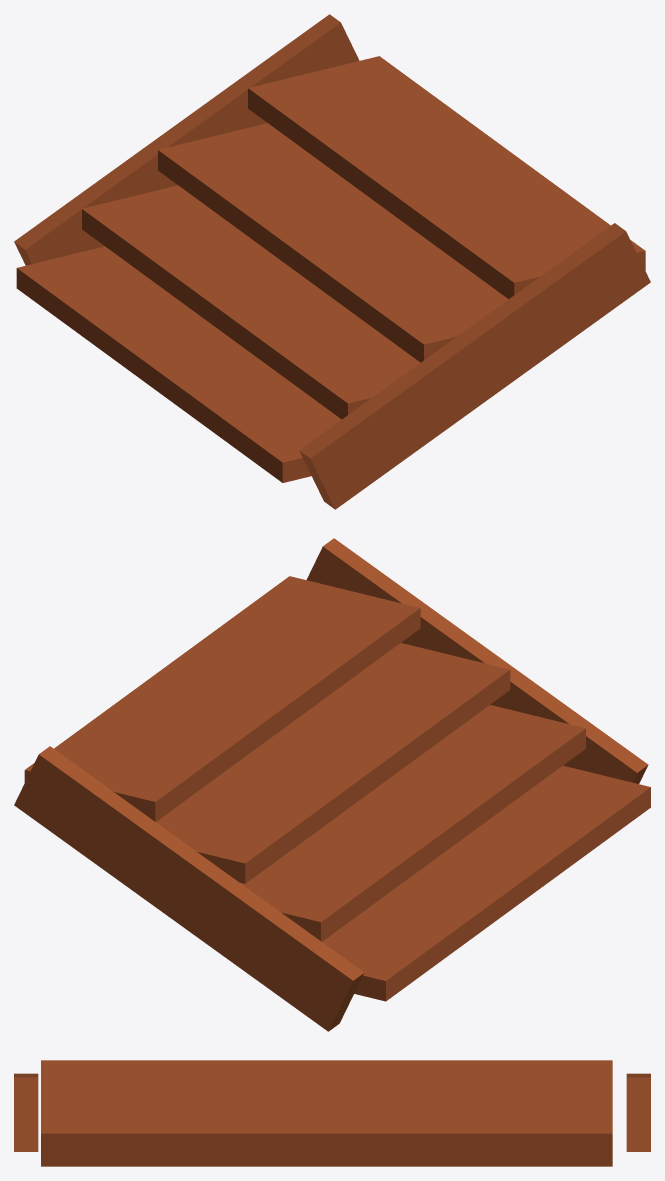
The model's file is STAIRS.fbx.
The picture shows the model from 3 angles, top to bottom: view 1: azimuth 30°, elevation 25°; view 2: azimuth 150°, elevation 25°; view 3: azimuth 270°, elevation 25°; orthographic projection. The views are drawn at different scales.
Visible parts, largest first — view 1: Plane.010; view 2: Plane.010; view 3: Plane.010.
Part boxes in pixels (x1,y1,x2,y2): Plane.010: [14, 14, 650, 509]; Plane.010: [14, 538, 650, 1031]; Plane.010: [14, 1060, 650, 1166].
Bounding box in the file's own units: 157 × 85.69 × 222.
